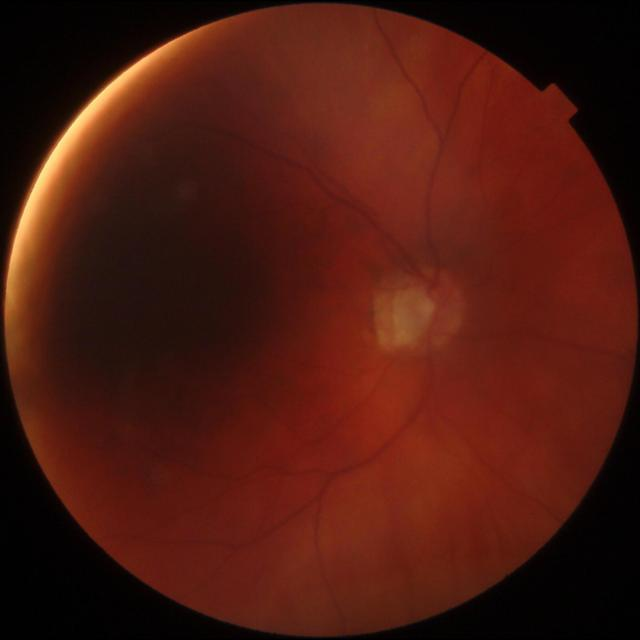OC: (417, 299, 435, 317)
OD: (392, 274, 464, 346)
